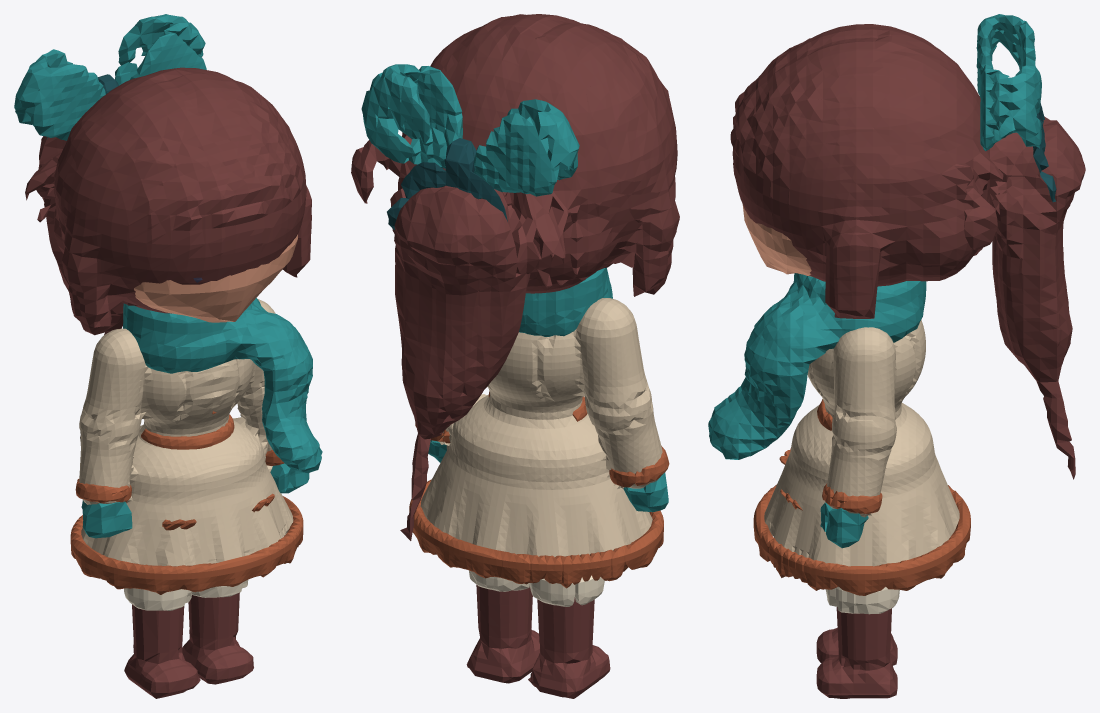
File: model_rest.obj
3 renders of one model, left to right at view 1: azimuth 30°, elevation 25°; view 2: azimuth 150°, elevation 25°; view 3: azimuth 270°, elevation 25°, orthographic. The views are drawn at different scales.
Parts seen in each view (by area): view 1: hair, coat, scarf, coat_trim, ribbon, boots, skin, mitten, boot_cuff; view 2: hair, coat, ribbon, boots, coat_trim, scarf, hatcuff, boot_cuff, mitten; view 3: hair, coat, scarf, coat_trim, ribbon, boots, skin, boot_cuff, mitten, hatcuff.
Boxes of the visible parts, x1,y1,x2,y2 form: hair: (25, 67, 311, 335); coat: (79, 299, 293, 566); scarf: (123, 298, 322, 473); coat_trim: (70, 411, 303, 594); ribbon: (14, 14, 206, 140); boots: (124, 592, 253, 698); skin: (134, 234, 297, 322); mitten: (81, 463, 309, 538); boot_cuff: (124, 580, 248, 610); hair: (351, 14, 679, 540); coat: (420, 298, 662, 556); ribbon: (361, 64, 579, 196); boots: (466, 585, 610, 698); coat_trim: (409, 391, 669, 588); scarf: (519, 267, 612, 336); hatcuff: (387, 138, 507, 230); boot_cuff: (468, 570, 604, 606); mitten: (428, 440, 668, 512); hair: (730, 24, 1085, 479); coat: (764, 320, 959, 566); scarf: (708, 273, 926, 459); coat_trim: (753, 399, 970, 595); ribbon: (976, 14, 1041, 151); boots: (816, 607, 897, 698); skin: (742, 204, 811, 276); boot_cuff: (825, 586, 899, 614); mitten: (820, 502, 868, 548); hatcuff: (1033, 103, 1056, 202).
Size of the model in its own units: 19.79 by 46.93 by 25.21.
